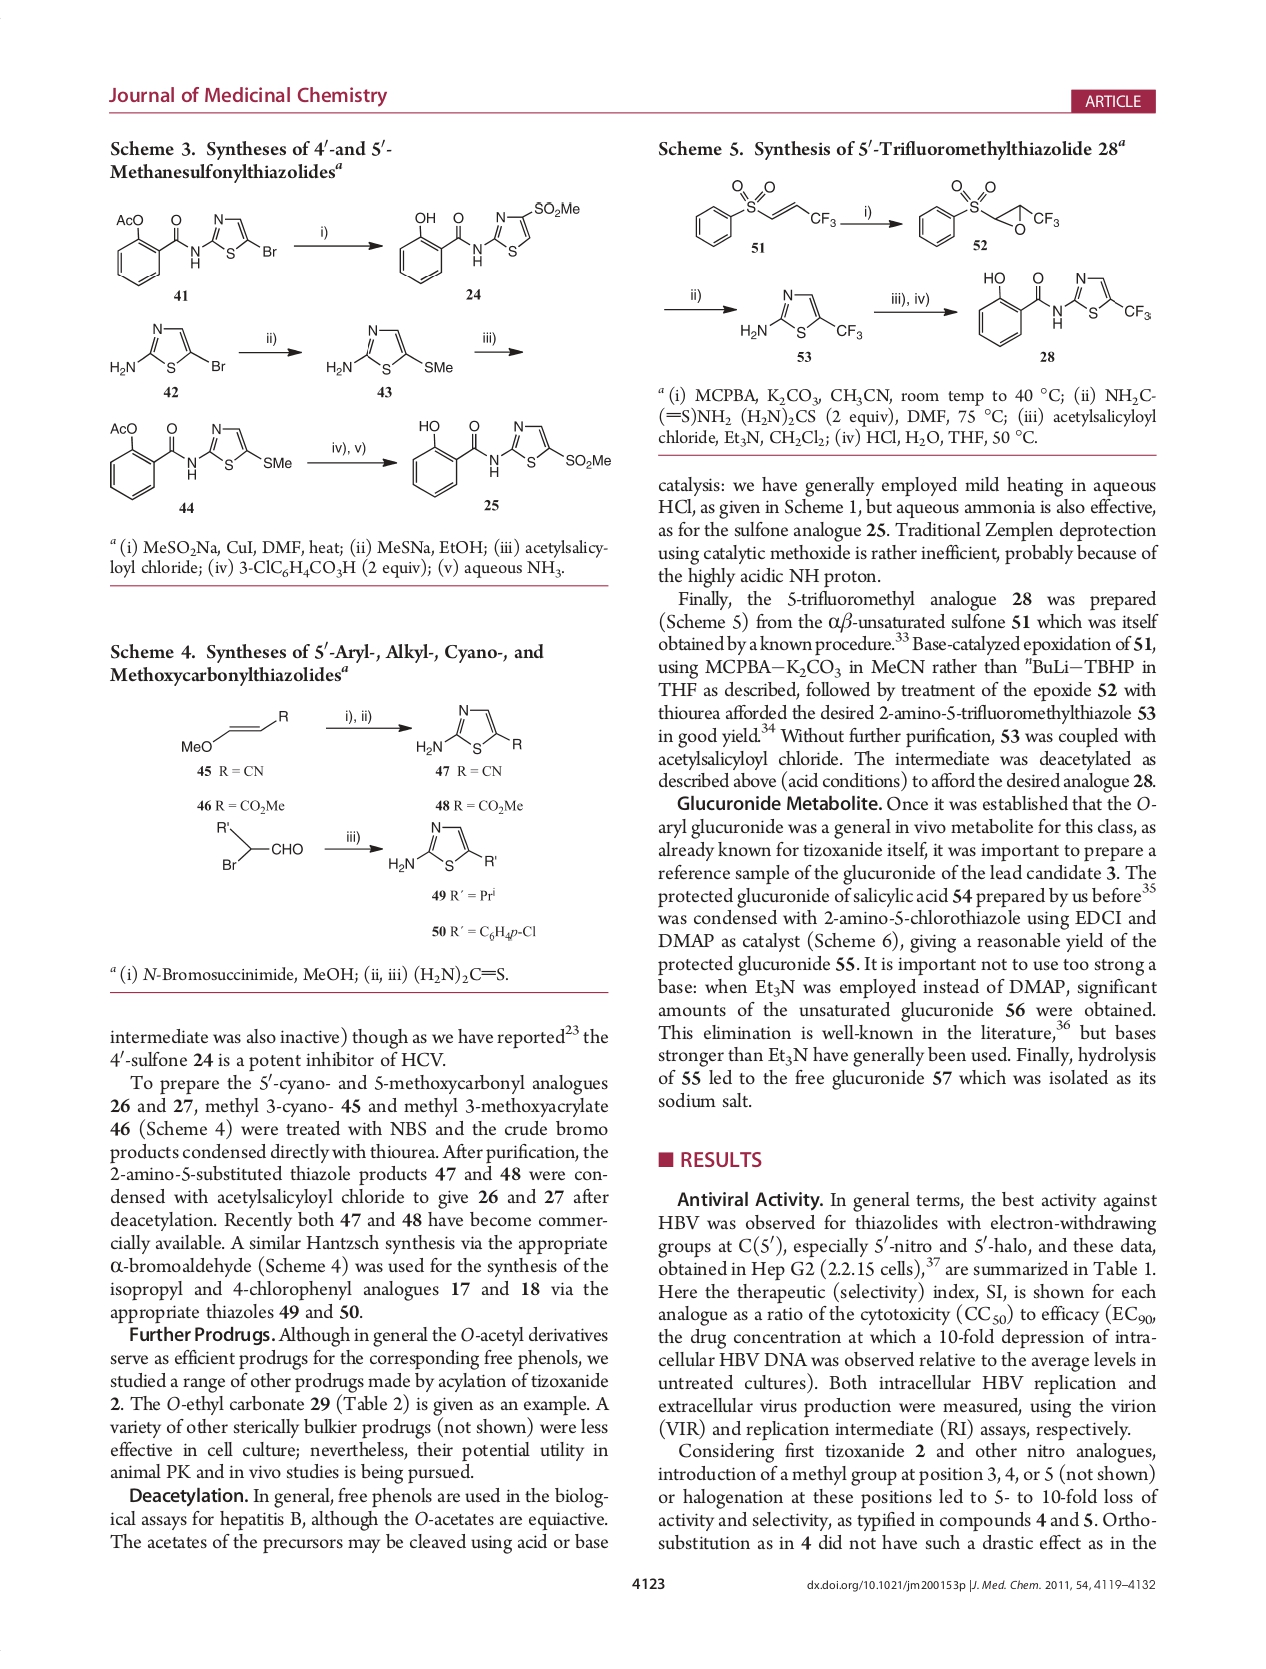exist_molecular: (396, 199, 582, 289), (408, 418, 610, 499), (106, 418, 293, 503), (975, 267, 1152, 350), (110, 202, 278, 287), (910, 170, 1063, 249), (690, 177, 839, 250), (102, 317, 230, 380), (741, 282, 867, 344), (324, 321, 453, 379), (412, 697, 525, 759), (387, 821, 500, 878), (173, 709, 294, 754), (207, 821, 307, 872)
